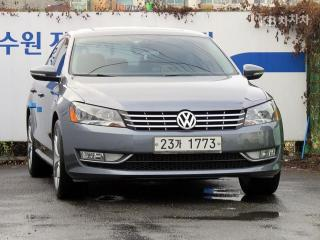1: (187, 138, 194, 150)
2: (160, 138, 167, 150)
3: (168, 138, 175, 150), (209, 138, 216, 149)
7: (194, 138, 202, 149), (202, 138, 209, 149)
plate: (150, 134, 226, 157)
가: (175, 139, 184, 149)
